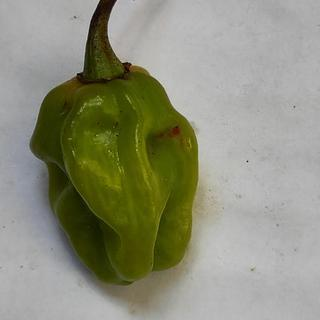Grade-A: (25, 57, 201, 288)
